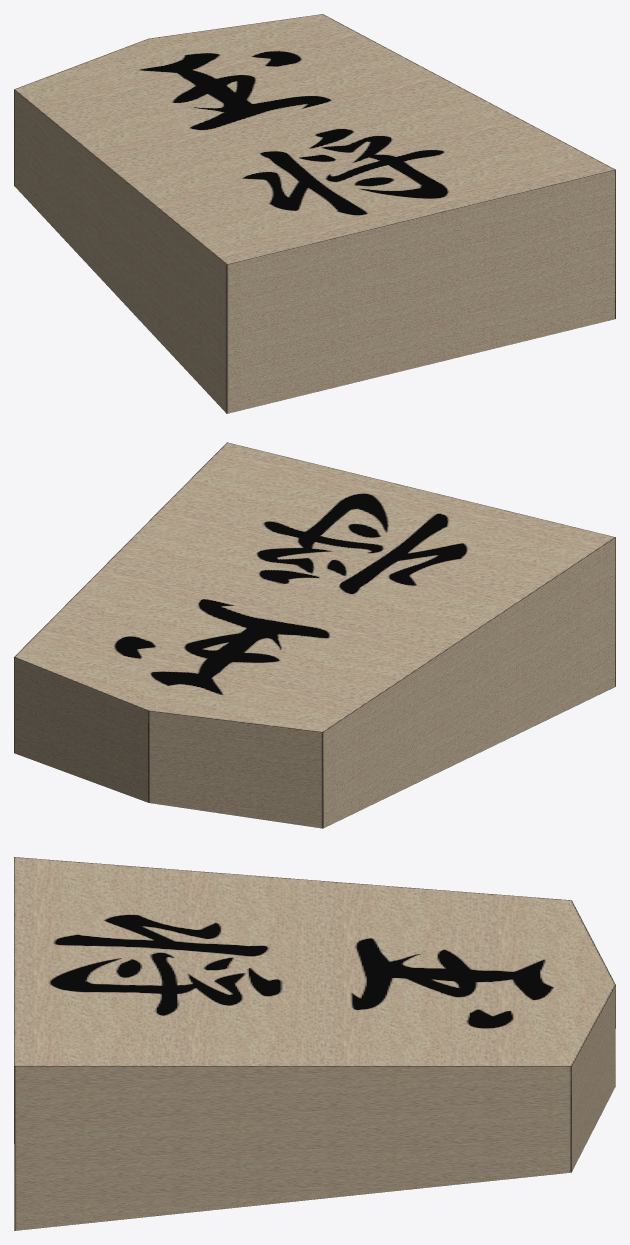
File: 01_Gyokusho.fbx
3 renders of one model, top to bottom at view 1: azimuth 30°, elevation 25°; view 2: azimuth 150°, elevation 25°; view 3: azimuth 270°, elevation 25°, orthographic. The views are drawn at different scales.
Parts seen in each view (by area): view 1: 01_Gyokusho; view 2: 01_Gyokusho; view 3: 01_Gyokusho.
Part boxes in pixels (left/top/right/bottom): 01_Gyokusho: left=14, top=14, right=615, bottom=413; 01_Gyokusho: left=14, top=442, right=615, bottom=828; 01_Gyokusho: left=14, top=857, right=615, bottom=1230.
Bounding box in the file's own units: 0.72 × 0.8753 × 0.2642.
1 material, 1 textured.
